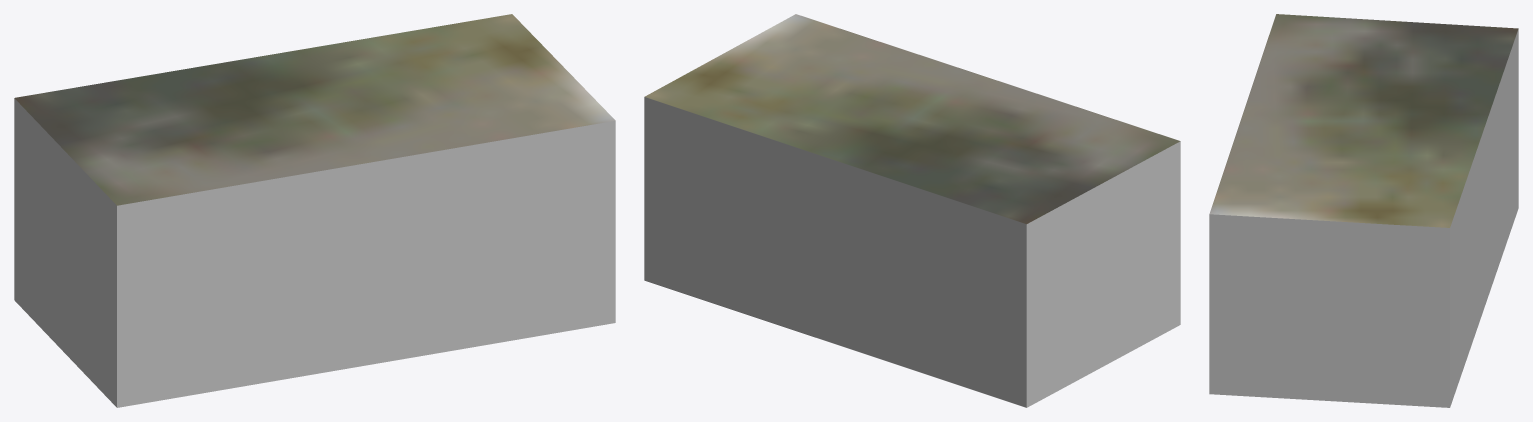
Rendered from DEBW_0010007Txf6.gltf.
3 views of the same model, side by side, from view 1: azimuth 30°, elevation 25°; view 2: azimuth 150°, elevation 25°; view 3: azimuth 270°, elevation 25° (orthographic). The views are drawn at different scales.
Visible parts, largest first — view 1: Z_UP; view 2: Z_UP; view 3: Z_UP.
Part boxes in pixels (x1,y1,x2,y2): Z_UP: (14, 14, 615, 407); Z_UP: (644, 14, 1180, 407); Z_UP: (1209, 14, 1518, 407).
Bounding box in the file's own units: 6.06 × 2.38 × 3.7.
Materials: 2 (1 with a texture image).
